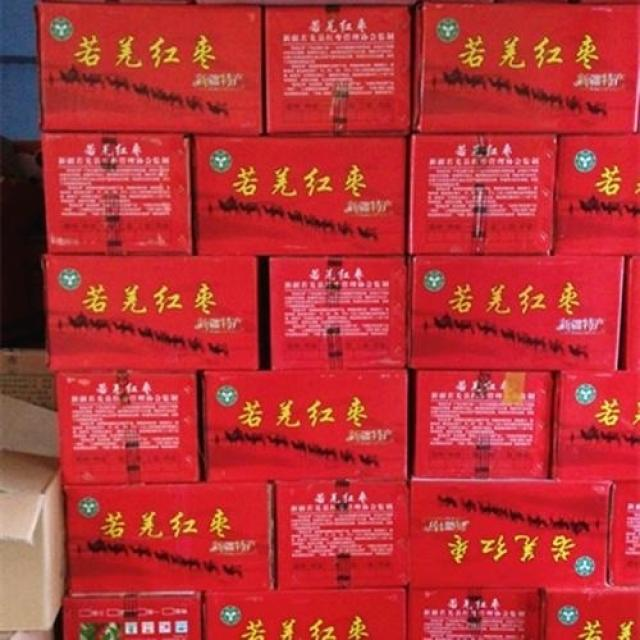box: (37, 1, 265, 137), (415, 1, 640, 136), (195, 136, 407, 257), (408, 257, 627, 372), (45, 257, 259, 371), (64, 483, 273, 595), (204, 369, 408, 481), (408, 480, 613, 589), (265, 4, 410, 134), (41, 134, 192, 255), (411, 134, 558, 255), (55, 370, 201, 485), (413, 370, 552, 479), (270, 259, 407, 369), (276, 481, 408, 589), (0, 449, 67, 632), (204, 588, 410, 640), (554, 137, 640, 257), (554, 370, 640, 481), (408, 589, 543, 640), (63, 595, 201, 640), (541, 588, 640, 639), (608, 481, 640, 588), (625, 257, 640, 370)
